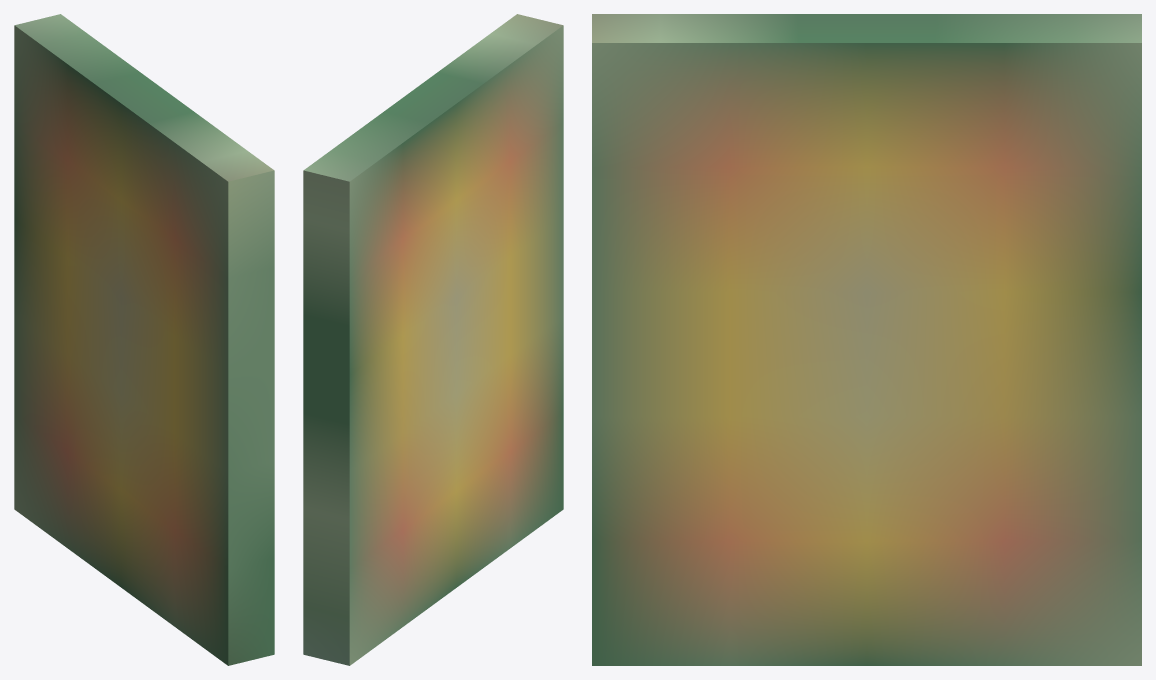
File: PaintingYellowWithGreenFrame_04.fbx
3 renders of one model, left to right at view 1: azimuth 30°, elevation 25°; view 2: azimuth 150°, elevation 25°; view 3: azimuth 270°, elevation 25°, orthographic. The views are drawn at different scales.
Visible parts, largest first — view 1: PaintingYellowWithGreenFrame_04; view 2: PaintingYellowWithGreenFrame_04; view 3: PaintingYellowWithGreenFrame_04.
Part boxes in pixels (x1,y1,x2,y2): PaintingYellowWithGreenFrame_04: (14,14,274,665); PaintingYellowWithGreenFrame_04: (303,14,563,665); PaintingYellowWithGreenFrame_04: (592,14,1141,665).
Bounding box in the file's own units: 5 × 40 × 50.
Materials: 1 (1 with a texture image).
